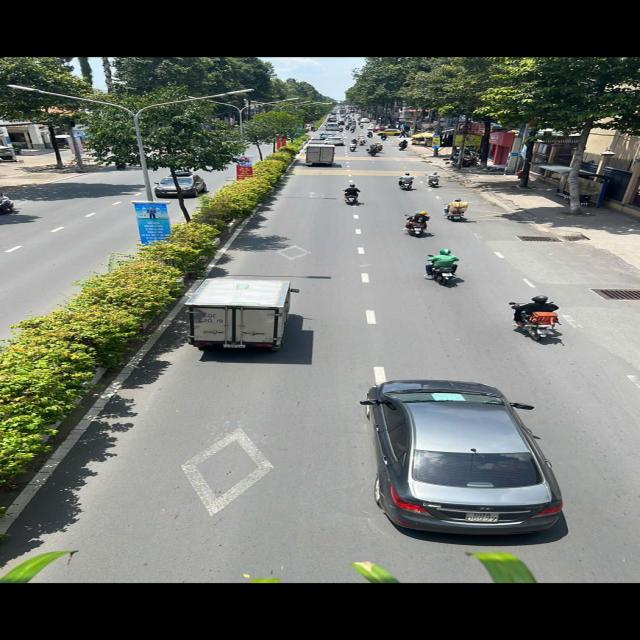ben: (159, 270, 304, 356), (297, 140, 342, 170)
car: (350, 375, 584, 543), (146, 169, 212, 203)
motobyte: (504, 293, 581, 351), (416, 248, 466, 292), (400, 207, 435, 242), (441, 193, 474, 226), (338, 181, 371, 211), (396, 169, 417, 193), (425, 170, 445, 192)
